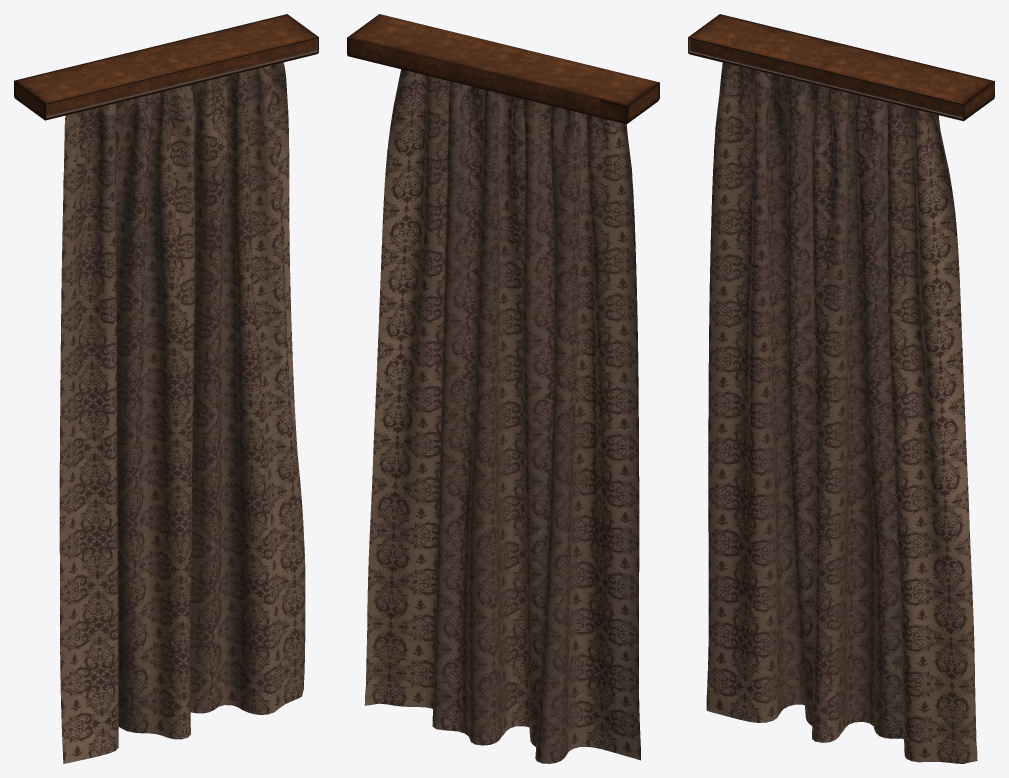
The model's file is Curtain1.glb.
The picture shows the model from 3 angles, left to right: view 1: azimuth 30°, elevation 25°; view 2: azimuth 150°, elevation 25°; view 3: azimuth 330°, elevation 25°; orthographic projection. The views are drawn at different scales.
Parts seen in each view (by area): view 1: Plane.001_curtains cloth_0, Cube.002_curtains wood_0; view 2: Plane.001_curtains cloth_0, Cube.002_curtains wood_0; view 3: Plane.001_curtains cloth_0, Cube.002_curtains wood_0.
Part boxes in pixels (bbox=[...]): Plane.001_curtains cloth_0: bbox=[59, 62, 305, 763]; Cube.002_curtains wood_0: bbox=[14, 14, 318, 120]; Plane.001_curtains cloth_0: bbox=[364, 69, 640, 763]; Cube.002_curtains wood_0: bbox=[347, 14, 659, 124]; Plane.001_curtains cloth_0: bbox=[706, 62, 977, 763]; Cube.002_curtains wood_0: bbox=[688, 14, 994, 121].
Bounding box in the file's own units: 1.31 × 3.04 × 0.3029.
Materials: 2 (2 with a texture image).
